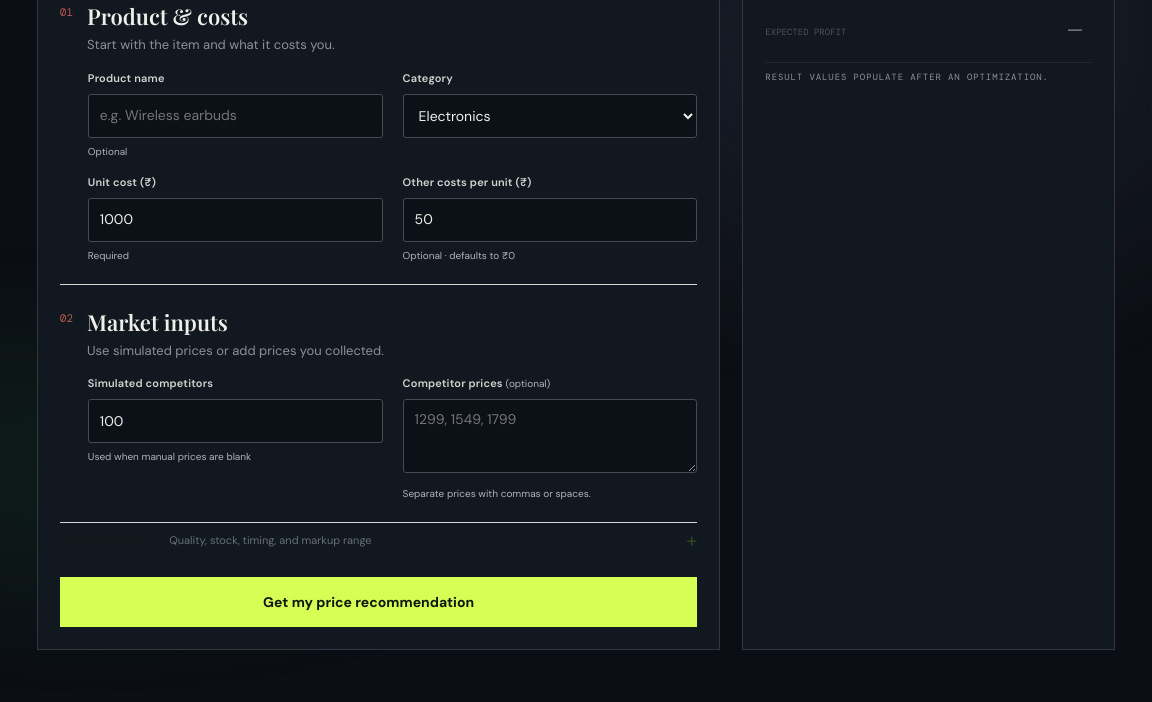
it: PriceOptimizer › keeps a response stale if the inputs change while it is in flight
(page scrolled)
Click the button "Get my price recommendation": (379, 602) [60,577,697,627]
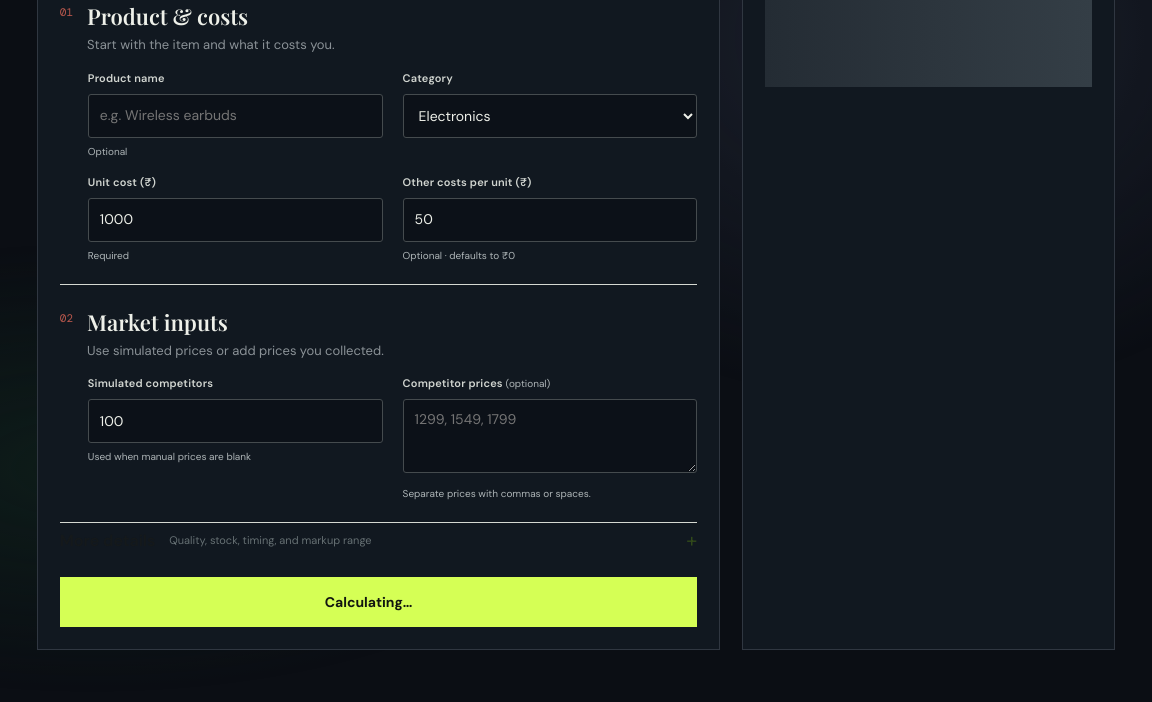
Replace the text in the number field labelled "Unit cost (₹)" with "1200": (235, 220) [88,198,383,242]
(page scrolled)
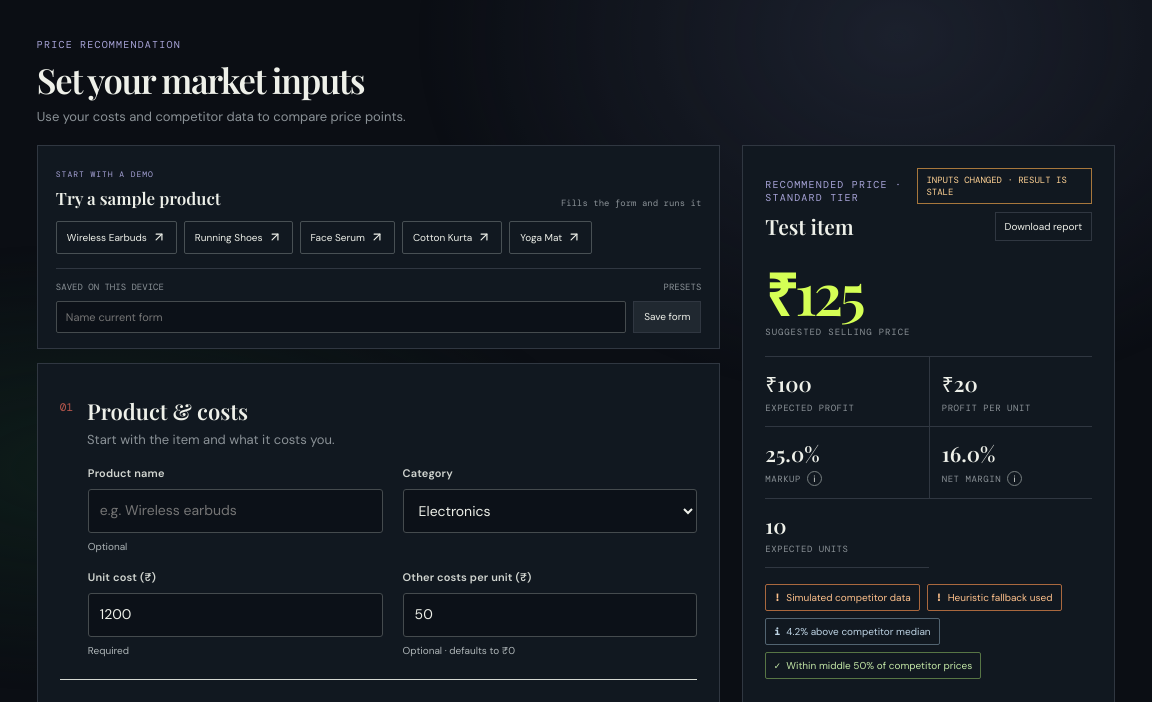
Result: the text "Inputs changed · result is stale" is shown at [917,168,1092,204]
